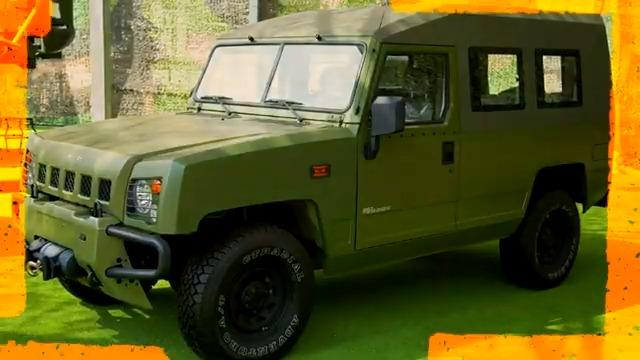MIL_HMMWV: (25, 6, 610, 360)
